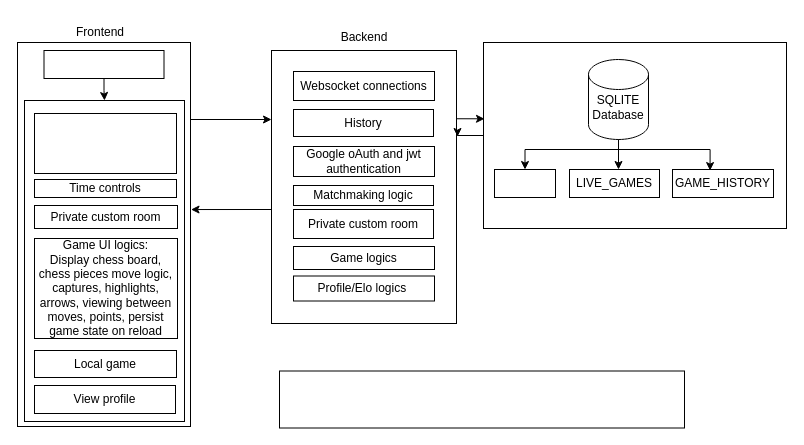
The diagram is 804 pixels wide and 445 high, and some of its shapes have lost their labels. Each missing label, with the centre of its shape:
Deployed to Google Cloud using Docker and CI/CD using cloudbuild.yaml: pixel 481 399
Google oAuth: pixel 103 64
USERS: pixel 525 183
View history, and game moves, upload/download games as json: pixel 105 143
